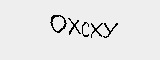О: (47, 14, 66, 36)
С: (79, 21, 92, 40)
У: (100, 21, 121, 41)
Х: (66, 17, 83, 39), (88, 21, 105, 40)
